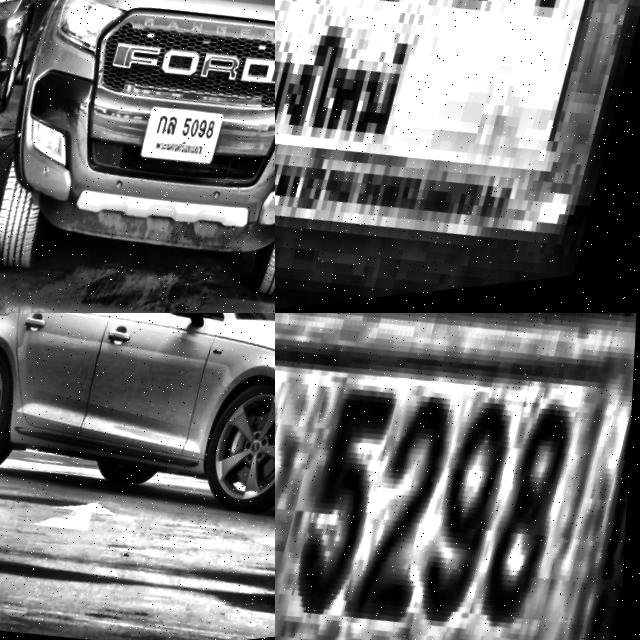license-plate: (275, 313, 640, 640), (275, 0, 640, 313), (141, 104, 230, 181)
